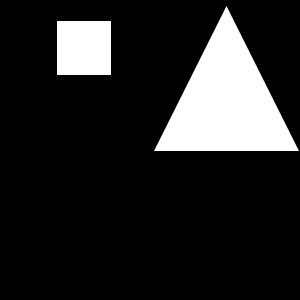circle: (57, 21, 111, 75)
triangle: (154, 6, 299, 151)
